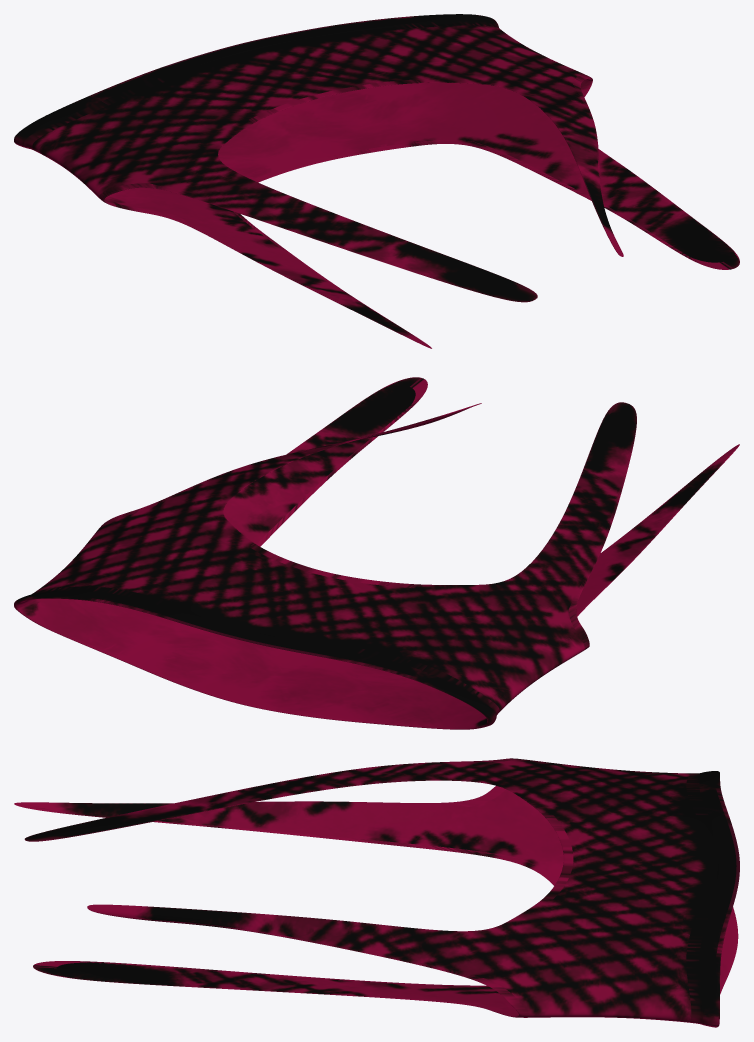
The model's file is daughter_underwear.fbx.
3 renders of one model, top to bottom at view 1: azimuth 30°, elevation 25°; view 2: azimuth 150°, elevation 25°; view 3: azimuth 270°, elevation 25°, orthographic. The views are drawn at different scales.
Visible parts, largest first — view 1: daughter_underwear; view 2: daughter_underwear; view 3: daughter_underwear.
Part boxes in pixels (x1,y1,x2,y2): daughter_underwear: (14, 14, 739, 348); daughter_underwear: (14, 377, 739, 729); daughter_underwear: (14, 758, 739, 1027).
Size of the model in its own units: 27.96 by 4.31 by 33.95.
1 material, 1 textured.
